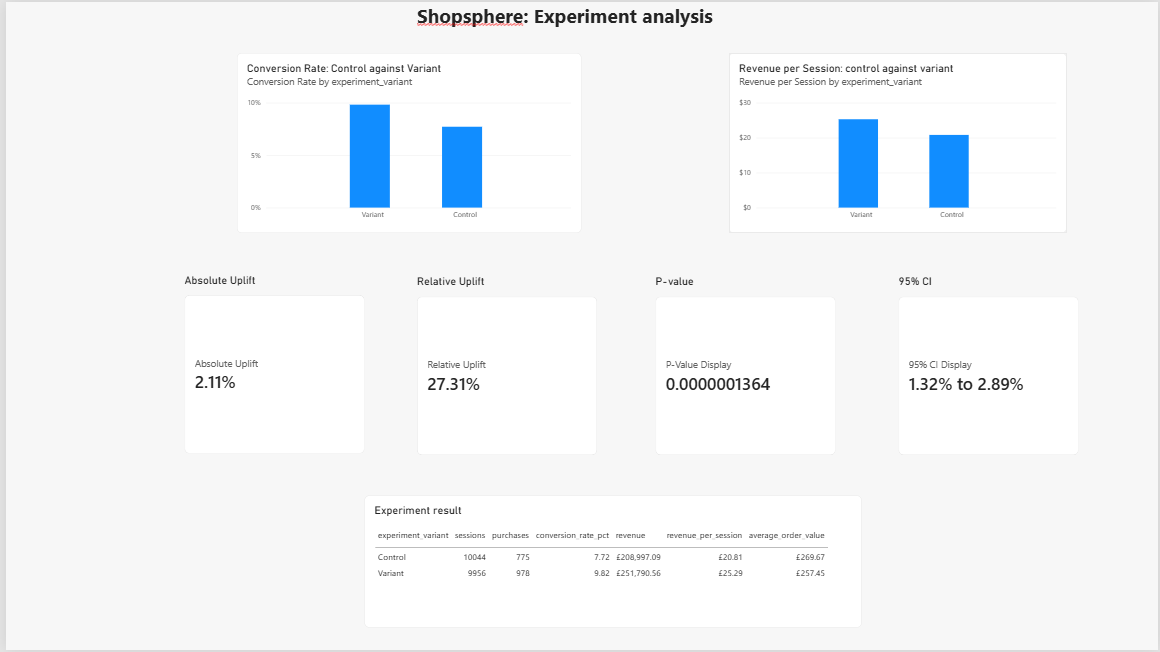

The dashboard page shown, as its layout file describes it:
{"tool":"powerbi","page":{"name":"Experiment analysis","canvas":[1920,1080],"ordinal":2},"visuals":[{"type":"textbox","box":[685,0,547.5,57.5],"z":0},{"type":"clusteredColumnChart","title":"Conversion Rate: Control against Variant","fields":{"Category":["public session_funnel.experiment_variant"],"Y":["public session_funnel.Conversion Rate"]},"box":[385.7,85.7,574.3,300],"z":1},{"type":"clusteredColumnChart","title":"Revenue per Session: control against variant","fields":{"Category":["public session_funnel.experiment_variant"],"Y":["Funnel Stages.Revenue per Session"]},"box":[1205.7,85.7,562.9,300],"z":2},{"type":"tableEx","title":"Experiment result","fields":{"Values":["ab_test_results.experiment_variant","ab_test_results.sessions","ab_test_results.purchases","ab_test_results.conversion_rate_pct","ab_test_results.revenue","ab_test_results.revenue_per_session","ab_test_results.average_order_value"]},"box":[597.1,822.9,828.6,220],"z":3},{"type":"cardVisual","title":"Absolute Uplift","fields":{"Data":["Funnel Stages.Absolute Uplift"]},"box":[297.1,451.4,300,300],"z":4},{"type":"cardVisual","title":"Relative Uplift","fields":{"Data":["Funnel Stages.Relative Uplift"]},"box":[685.7,454.3,300,300],"z":5},{"type":"cardVisual","title":"P-value","fields":{"Data":["Funnel Stages.P-Value Display"]},"box":[1082.9,454.3,300,300],"z":6},{"type":"cardVisual","title":"95% CI","fields":{"Data":["Confidence Interval.95% CI Display"]},"box":[1488.6,454.3,300,300],"z":7}]}

Visuals, with their boxes in screenshot pixels (x1, y1, x2, y2), scaled from the page's 1920x1080 canvas onto the 1160x652 screenshot:
textbox: [414, 0, 745, 35]
"Conversion Rate: Control against Variant" clusteredColumnChart: [233, 52, 580, 233]
"Revenue per Session: control against variant" clusteredColumnChart: [728, 52, 1069, 233]
"Experiment result" tableEx: [361, 497, 861, 630]
"Absolute Uplift" cardVisual: [179, 273, 361, 454]
"Relative Uplift" cardVisual: [414, 274, 596, 455]
"P-value" cardVisual: [654, 274, 836, 455]
"95% CI" cardVisual: [899, 274, 1081, 455]
